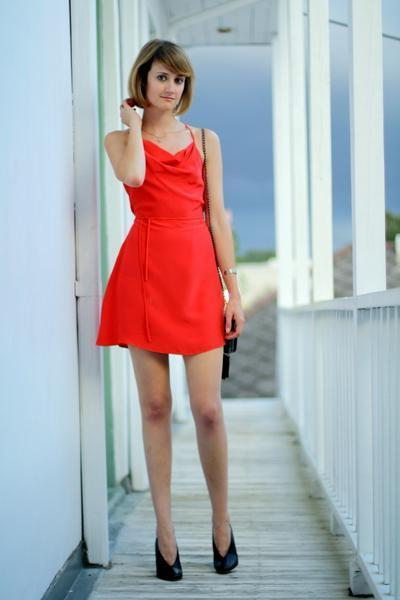dress: (95, 117, 233, 353)
